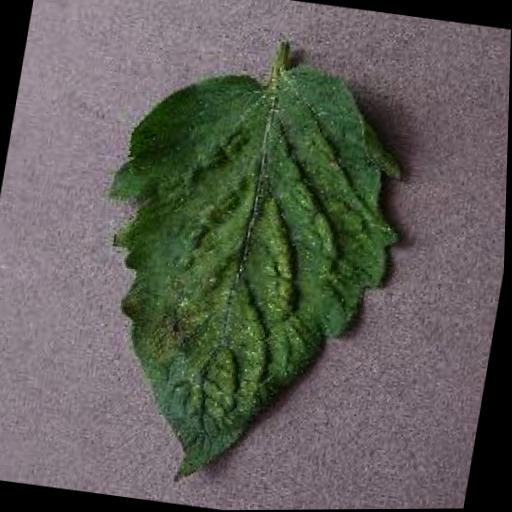Spider Mites: (63, 45, 426, 510)
